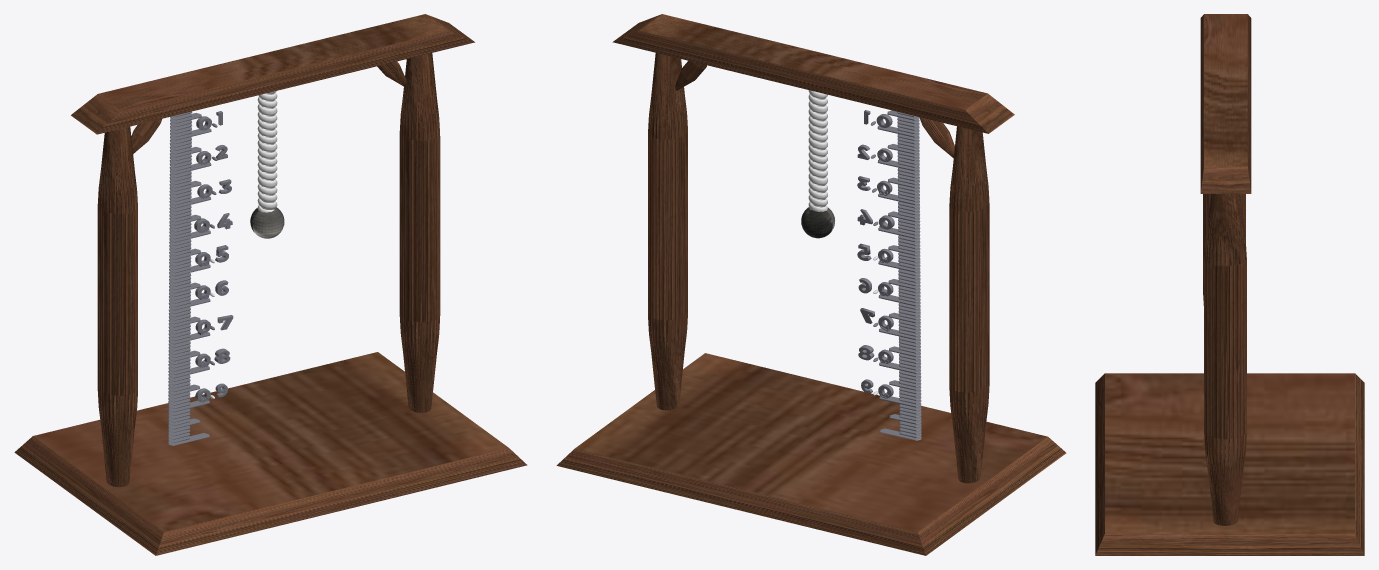
File: springPendulum.glb
3 renders of one model, left to right at view 1: azimuth 30°, elevation 25°; view 2: azimuth 150°, elevation 25°; view 3: azimuth 270°, elevation 25°, orthographic. The views are drawn at different scales.
Parts seen in each view (by area): view 1: Cube, Cube.001, Cylinder, Cylinder.001, Object_2, Spring, Sphere; view 2: Cube, Cube.001, Cylinder.001, Cylinder, Object_2, Spring, Sphere, Cylinder.003; view 3: Cube, Cylinder, Cube.001, Cylinder.001.
Part boxes in pixels (x1,y1,x2,y2): Cube: (14,352,527,555); Cube.001: (71,14,474,134); Cylinder: (399,53,440,412); Cylinder.001: (97,126,137,487); Object_2: (168,111,211,445); Spring: (257,91,277,212); Sphere: (250,207,284,238); Cube: (556,353,1066,555); Cube.001: (612,14,1014,133); Cylinder.001: (949,126,989,483); Cylinder: (648,53,687,410); Object_2: (877,110,921,440); Spring: (808,90,827,211); Sphere: (801,205,834,238); Cylinder.003: (919,117,954,157); Cube: (1095,373,1364,555); Cylinder: (1204,194,1246,525); Cube.001: (1200,14,1251,193); Cylinder.001: (1203,194,1245,305).
Size of the model in its own units: 6.38 by 6.41 by 4.13.
11 materials, 2 textured.
